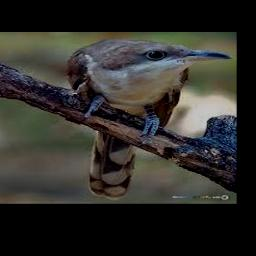Cuckoo: (65, 38, 233, 197)
